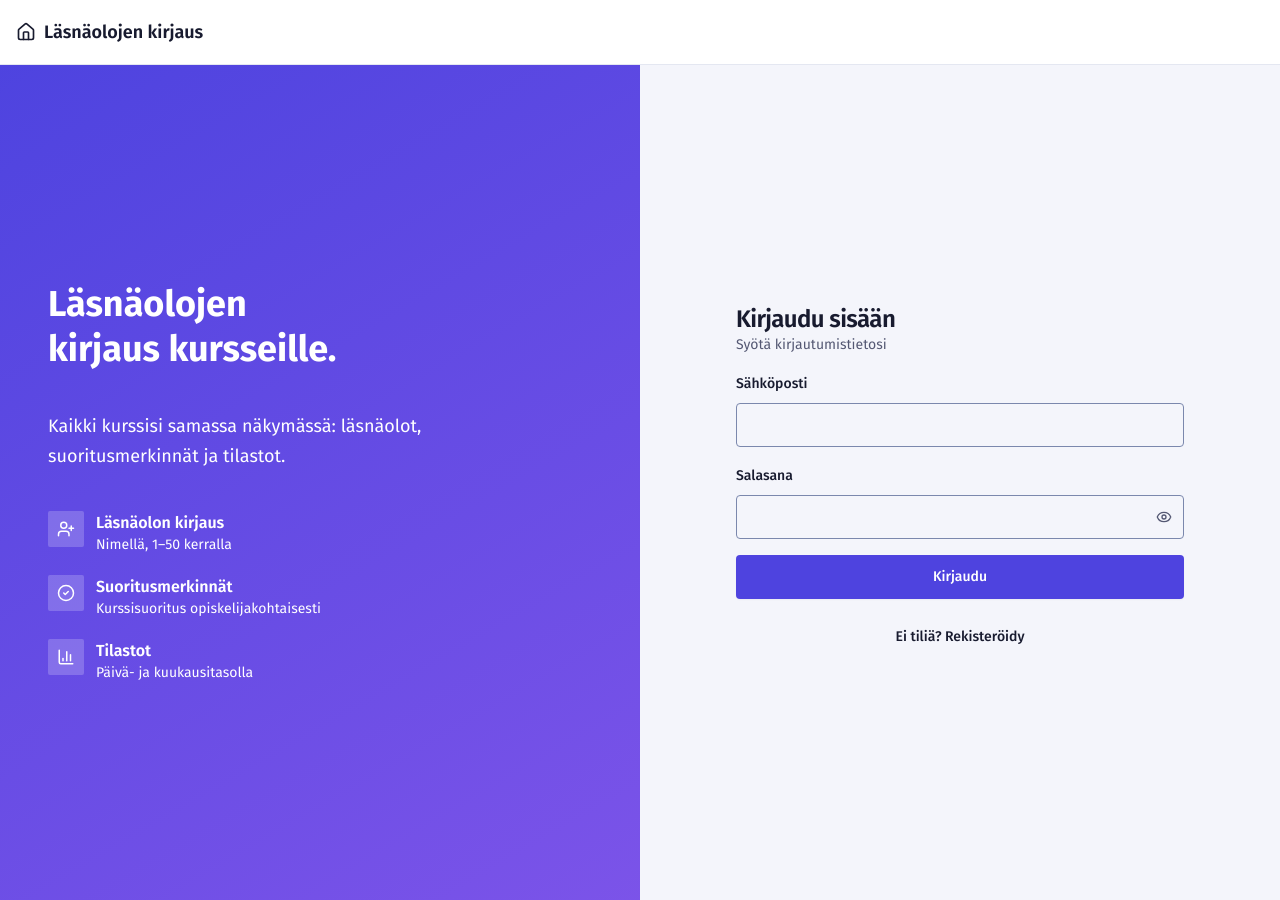
Test case: Authentication flow › toggles between login and signup
Expected: the heading "Kirjaudu sisään" is shown, 736,304 -> 895,332
Click the button "Ei tiliä? Rekisteröidy". click: (960, 636)
box: 736,614 -> 1184,658
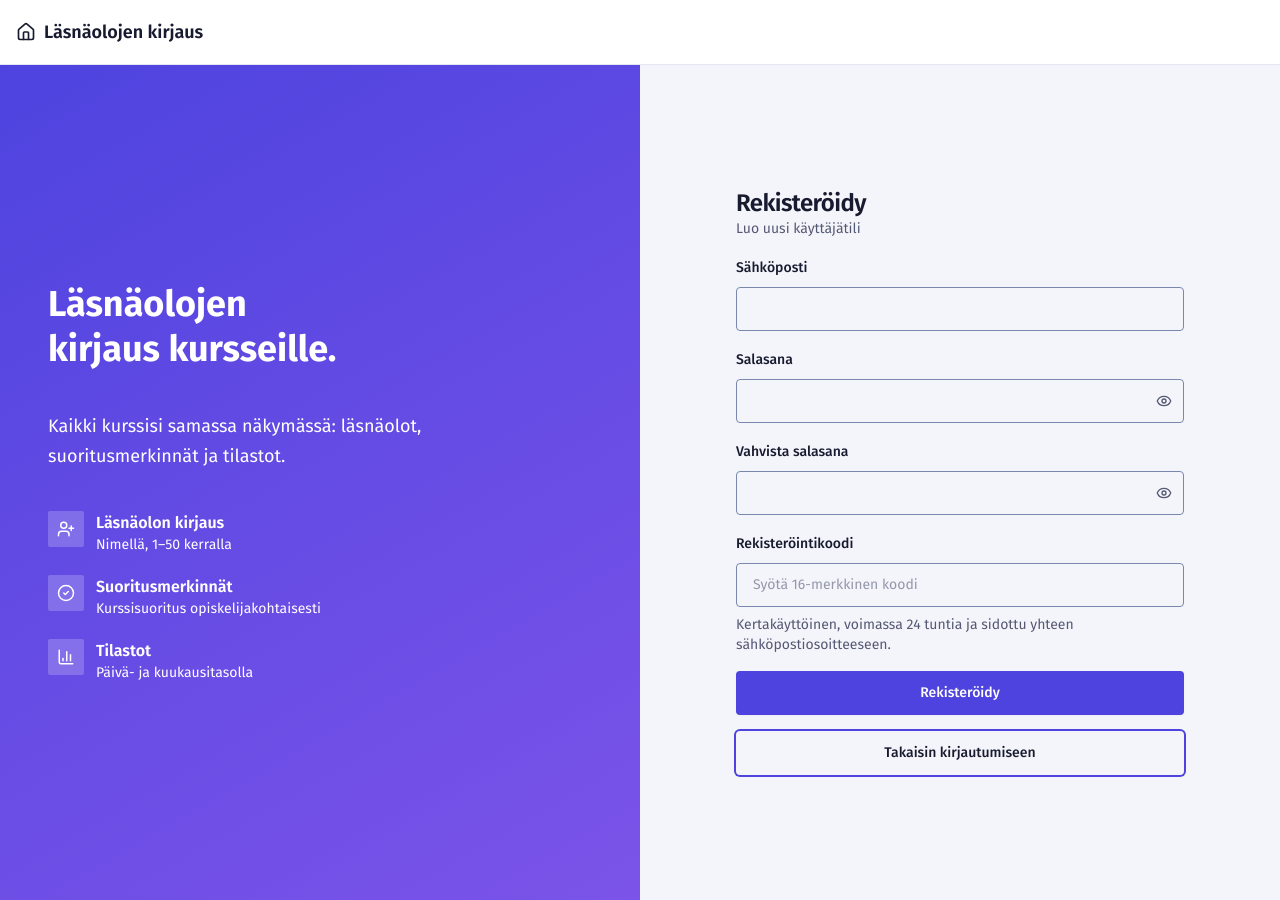
Now the heading "Rekisteröidy" is shown, box 736,188 -> 866,216
Now the field labelled "Rekisteröintikoodi" is shown, box 736,562 -> 1184,606
Click the button "Takaisin kirjautumiseen". click: (960, 752)
box: 736,730 -> 1184,774
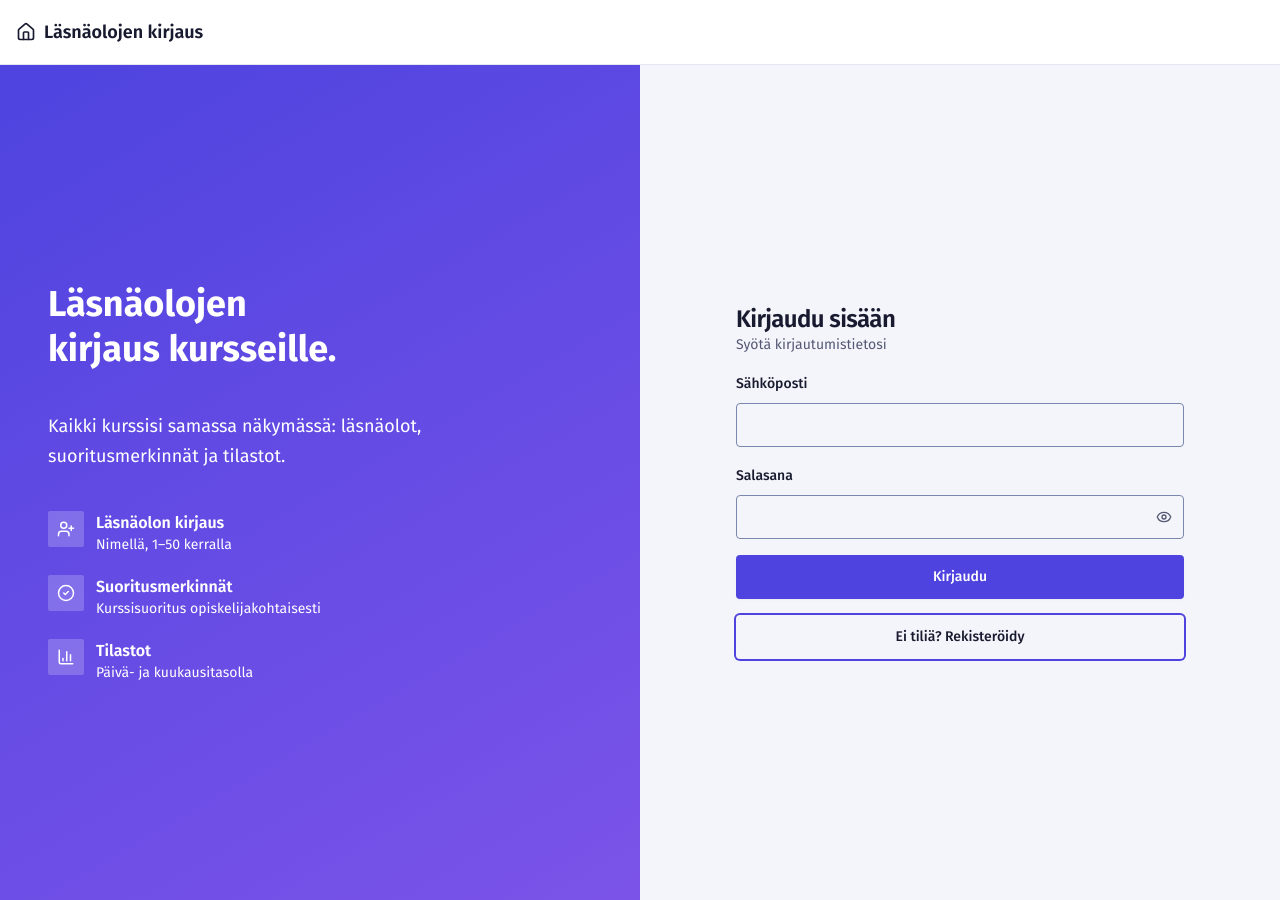
Now the heading "Kirjaudu sisään" is shown, box 736,304 -> 895,332
Now the label labelled "Rekisteröintikoodi" is gone
